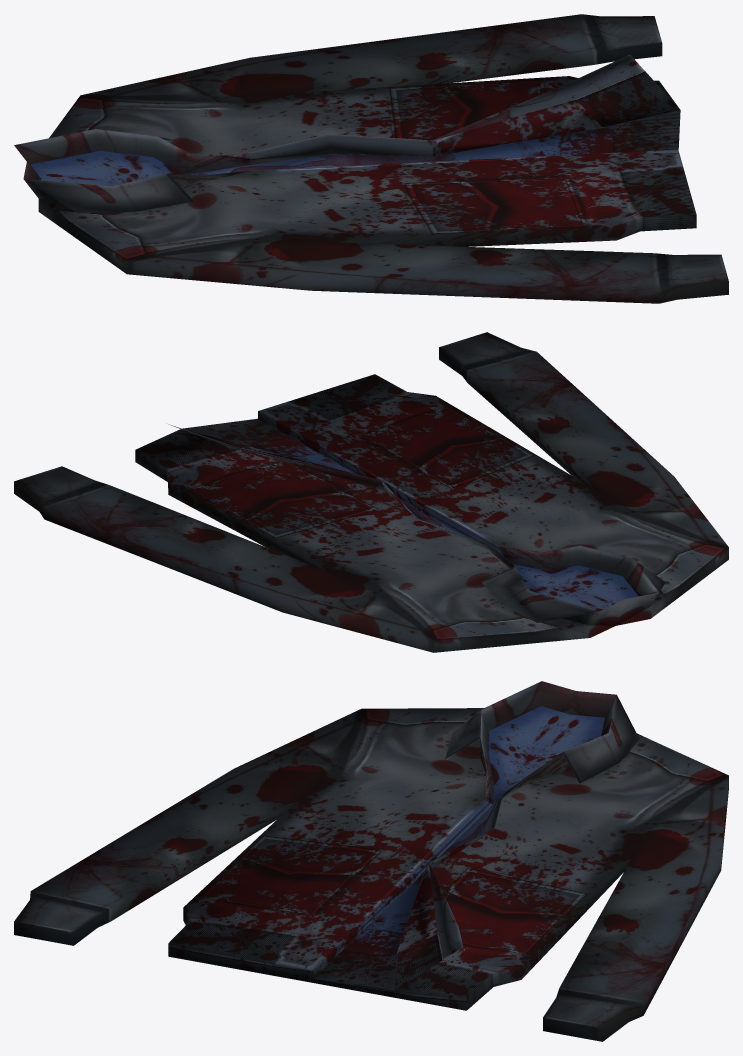
The model's file is SiWangPenQuan_01_jiake_01.FBX.
3 renders of one model, top to bottom at view 1: azimuth 30°, elevation 25°; view 2: azimuth 150°, elevation 25°; view 3: azimuth 270°, elevation 25°, orthographic. The views are drawn at different scales.
Visible parts, largest first — view 1: SiWangPenQuan_01_jiake_01; view 2: SiWangPenQuan_01_jiake_01; view 3: SiWangPenQuan_01_jiake_01.
Boxes of the visible parts, x1,y1,x2,y2 form: SiWangPenQuan_01_jiake_01: [14, 14, 728, 303]; SiWangPenQuan_01_jiake_01: [14, 332, 728, 652]; SiWangPenQuan_01_jiake_01: [14, 681, 728, 1041].
Size of the model in its own units: 281 by 19.51 by 260.
